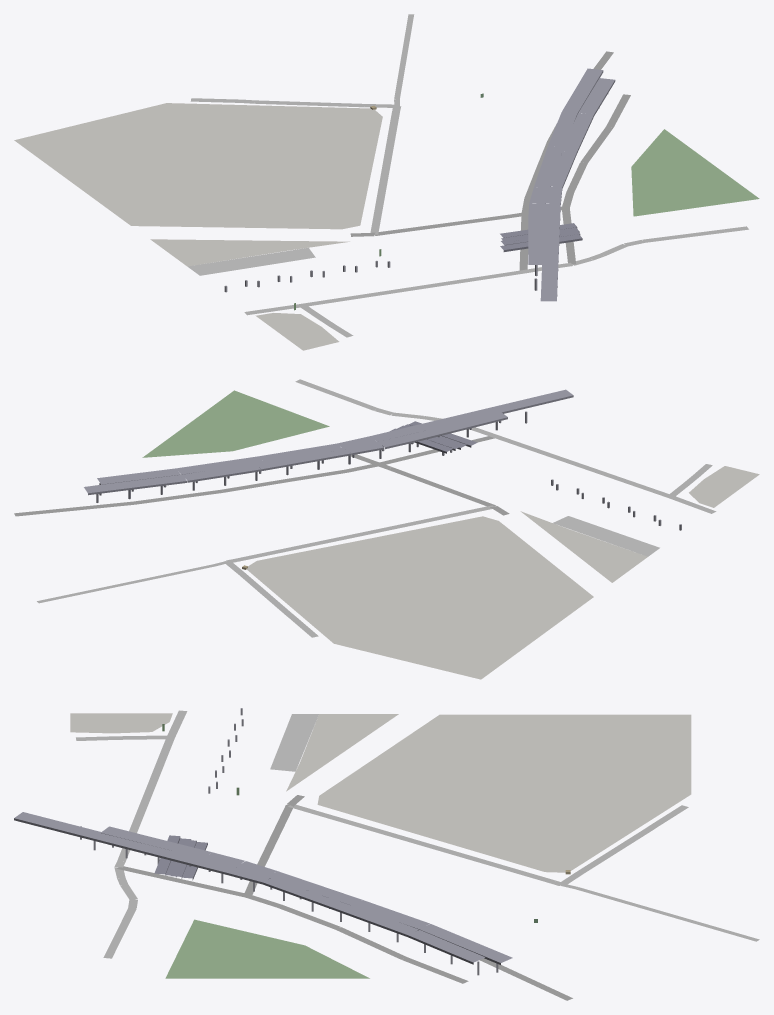
3 renders of one model, top to bottom at view 1: azimuth 30°, elevation 25°; view 2: azimuth 150°, elevation 25°; view 3: azimuth 270°, elevation 25°, orthographic. The views are drawn at different scales.
Bounding box in the file's own units: 547 × 15.81 × 601.
